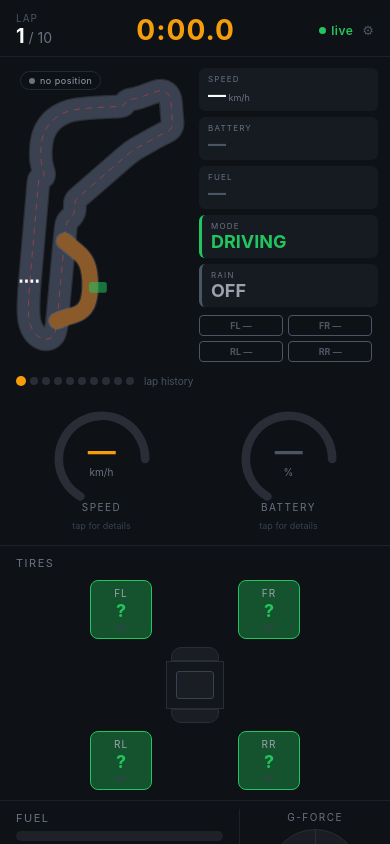
Test: DashboardScreen with nothing connected › renders the twin sheet with no position
Click the element showing "no position".
click(100, 215)  # box top-left (12, 65), bottom-right (189, 365)
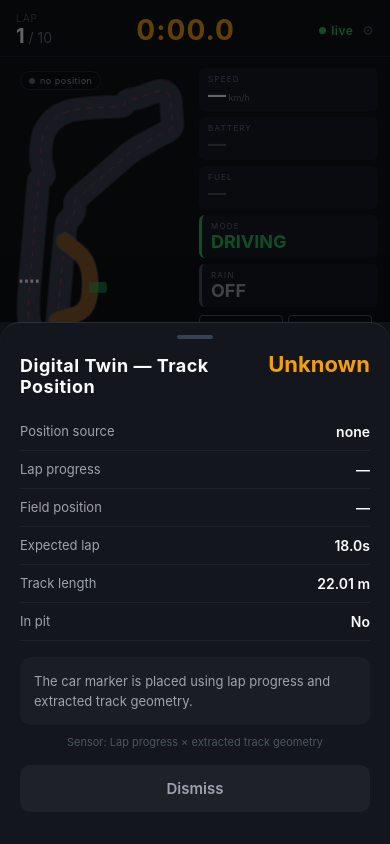
Now the text "Digital Twin" is shown, box top-left (20, 355), bottom-right (214, 397)
